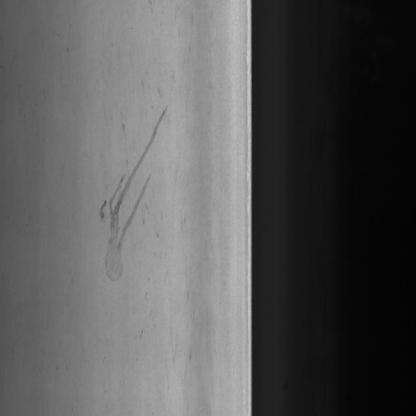water_spot: (87, 102, 170, 290)
